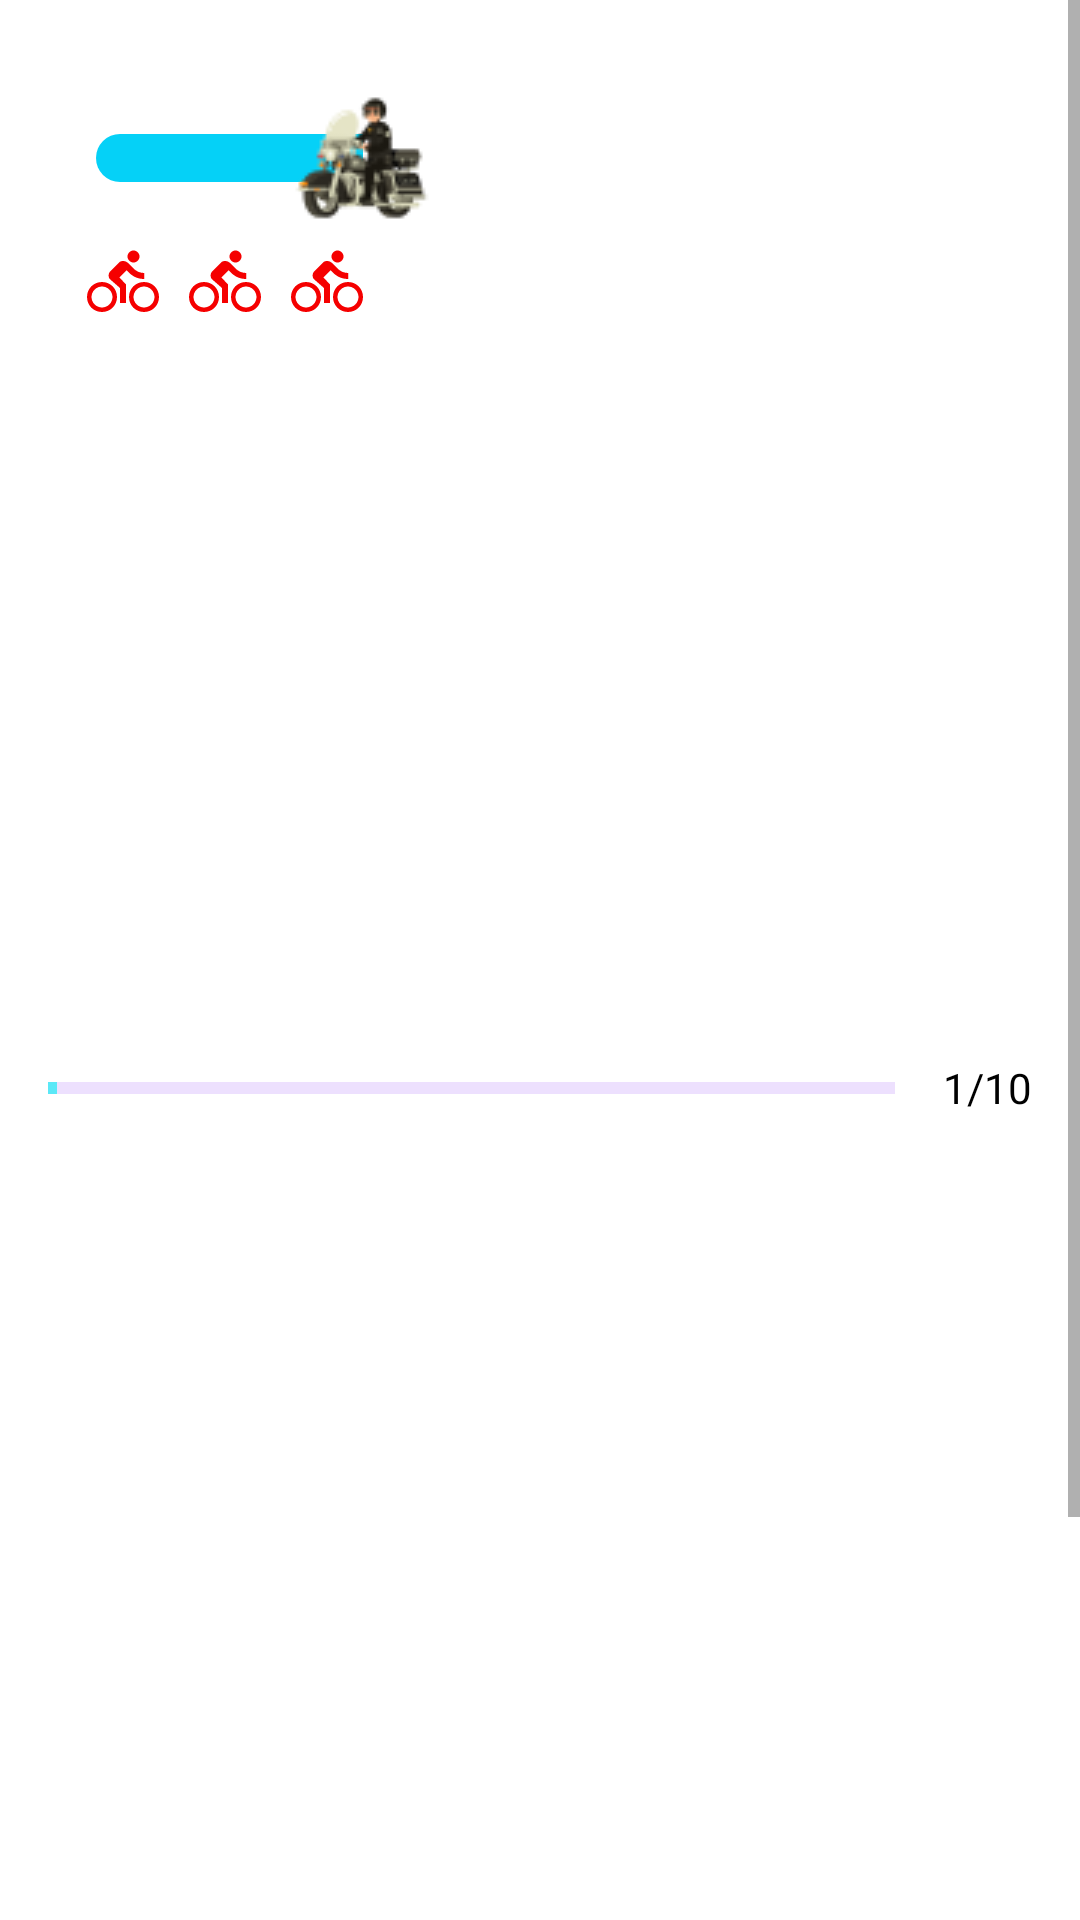

Icons on this 1080x1920 Android screen, each with the point to tap as [x,y]:
directions bike: [123,281], [225,281], [327,281]
